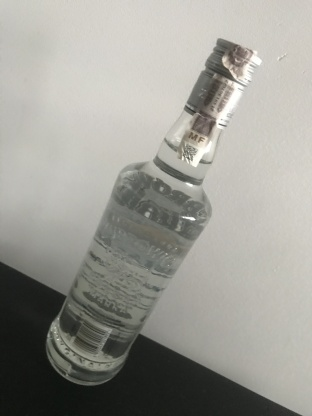nakretka: (181, 35, 263, 131)
